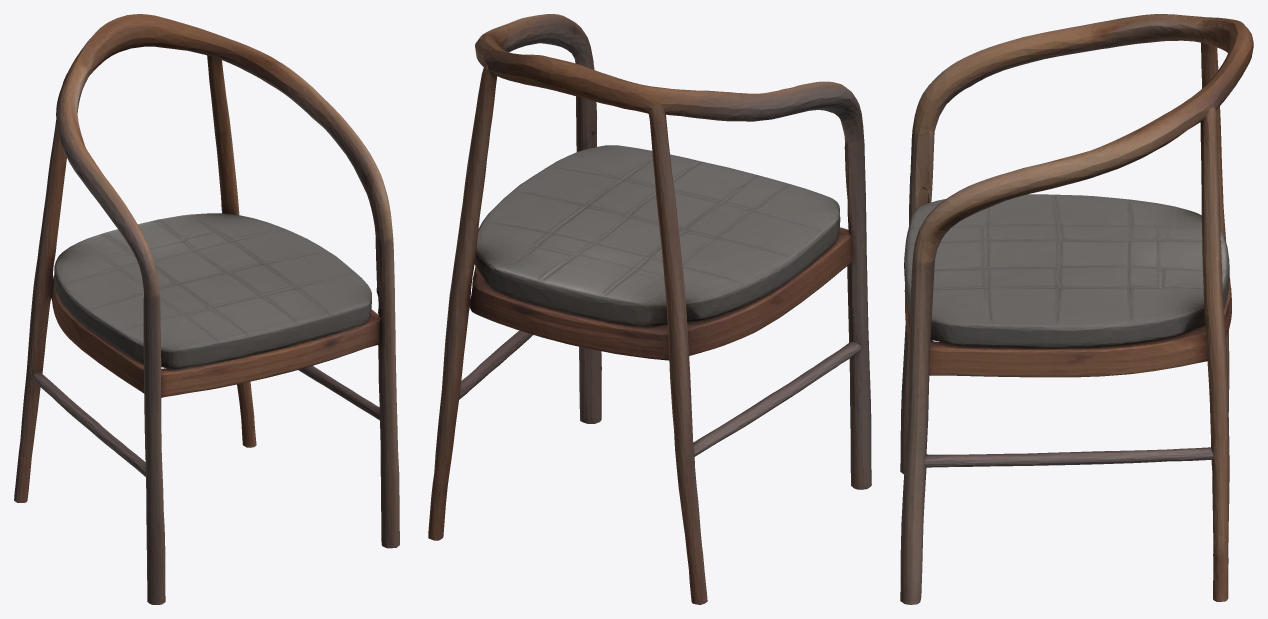
The picture shows the model from 3 angles, left to right: view 1: azimuth 30°, elevation 25°; view 2: azimuth 150°, elevation 25°; view 3: azimuth 270°, elevation 25°; orthographic projection. The views are drawn at different scales.
Visible parts, largest first — view 1: world; view 2: world; view 3: world.
Part boxes in pixels (left/top/right/bottom): world: left=14, top=14, right=399, bottom=604; world: left=428, top=14, right=871, bottom=604; world: left=900, top=14, right=1253, bottom=604.
Size of the model in its own units: 0.5996 by 1 by 0.635.
Materials: 1 (1 with a texture image).
